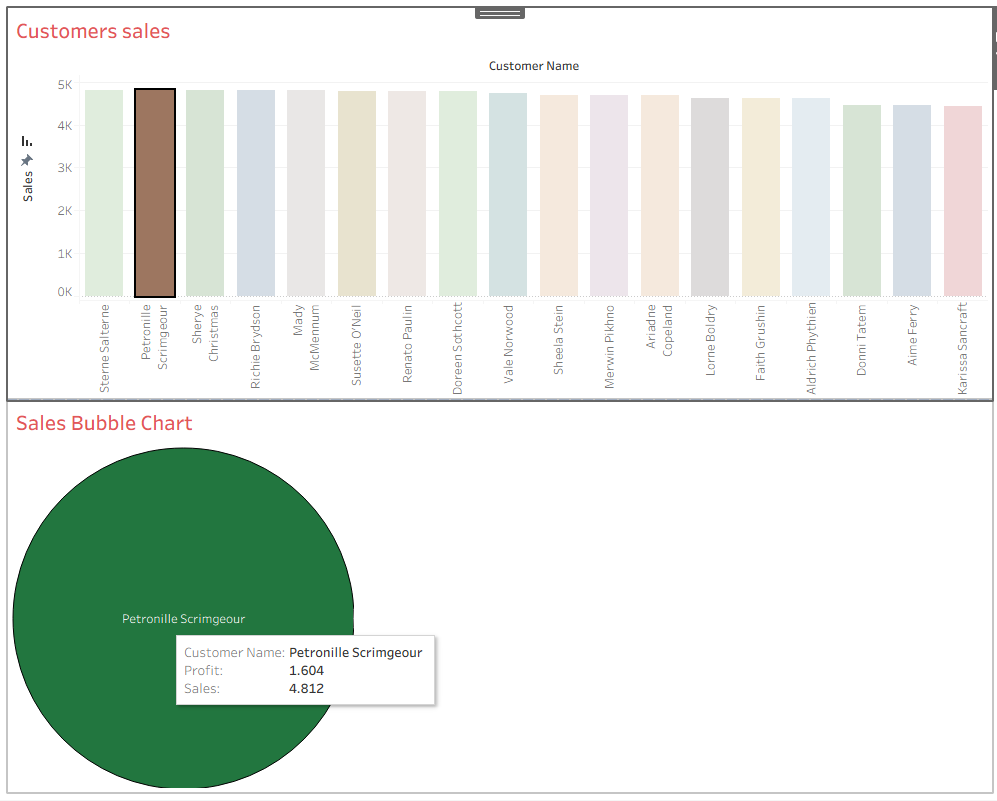

What the dashboard file says about the page in this screenshot:
{"tool":"tableau","page":{"name":"Dashboard 1","canvas":[1000,800],"ordinal":0},"visuals":[{"type":"worksheet","title":"Customers sales","mark":"Automatic","rows":["Sales"],"cols":["CustomerName"],"box":[8,8,984,392]},{"type":"worksheet","title":"Sales Bubble Chart","mark":"Circle","box":[8,400,984,392]}]}

Visuals, with their boxes in screenshot pixels (x1, y1, x2, y2), scaled from the page's 1000x800 canvas onto the 997x801 screenshot:
"Customers sales" worksheet: (left=8, top=8, right=989, bottom=400)
"Sales Bubble Chart" worksheet (Circle marks): (left=8, top=400, right=989, bottom=793)
